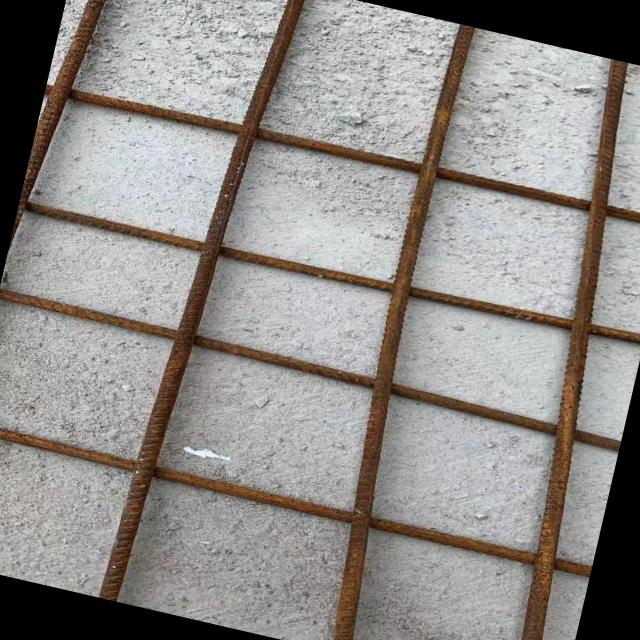ribbed bar: (89, 0, 308, 611), (303, 21, 496, 640), (462, 58, 640, 640), (21, 190, 640, 355), (0, 288, 621, 452), (43, 74, 640, 238), (0, 420, 591, 576), (6, 0, 130, 270)
